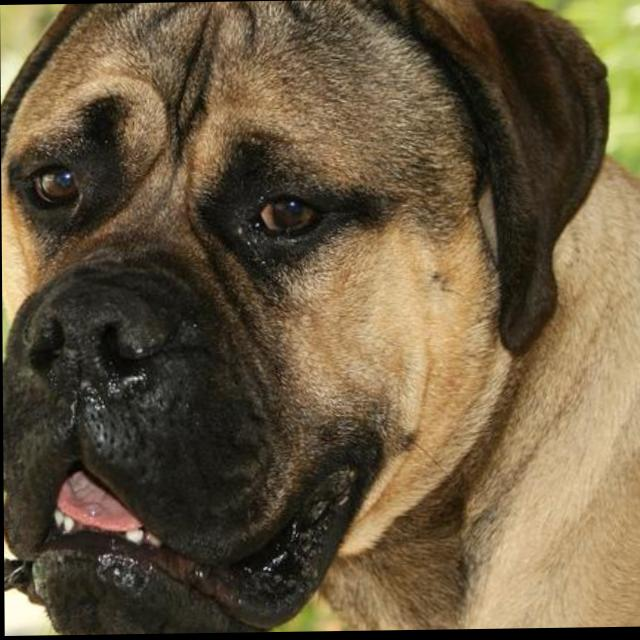bullmastiff: (1, 1, 640, 637)
